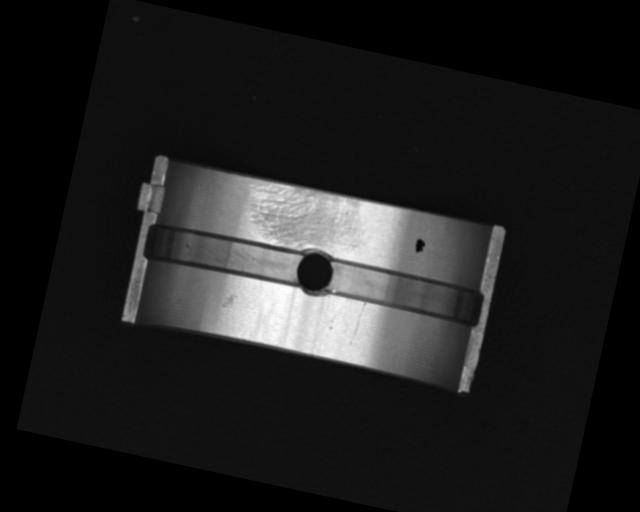blot: (412, 237, 427, 255)
bruise: (219, 292, 236, 311)
gap: (141, 218, 307, 290), (323, 256, 485, 327)
hole: (291, 244, 339, 302)
nick: (351, 300, 366, 338)
scratch: (240, 176, 372, 262)
